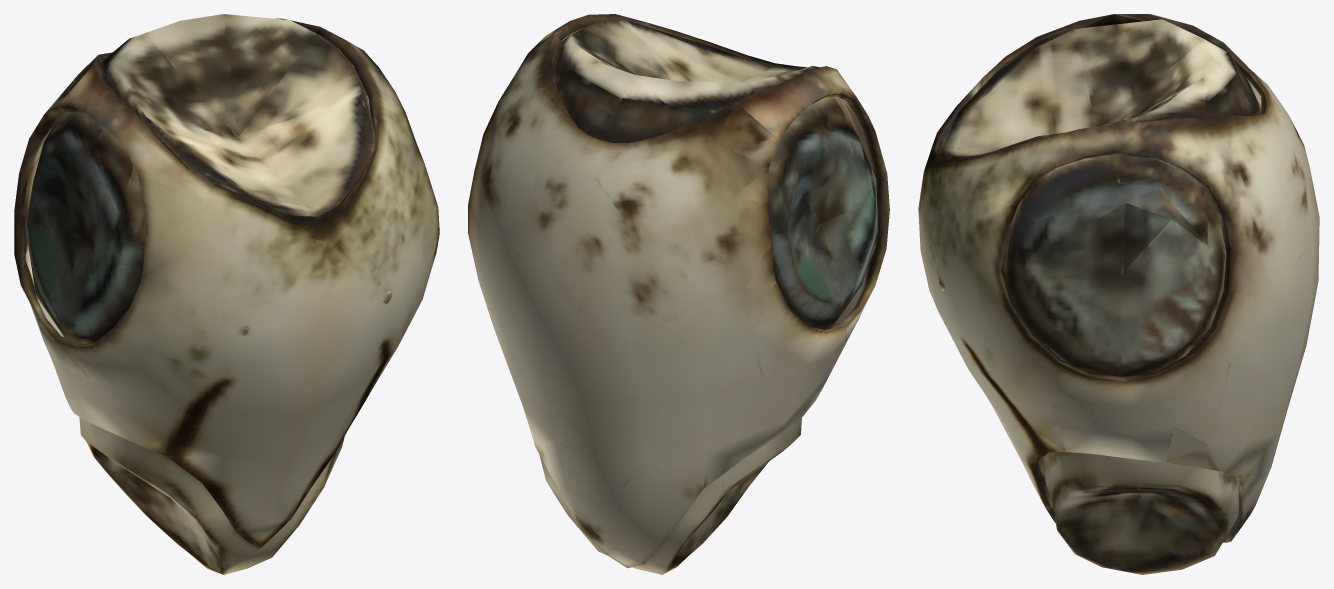
File: body-scout.glb
The picture shows the model from 3 angles, left to right: view 1: azimuth 30°, elevation 25°; view 2: azimuth 150°, elevation 25°; view 3: azimuth 270°, elevation 25°; orthographic projection.
Parts seen in each view (by area): view 1: body-scout; view 2: body-scout; view 3: body-scout.
Boxes of the visible parts, left/top/right/bottom form: body-scout: left=14, top=14, right=439, bottom=574; body-scout: left=468, top=14, right=889, bottom=574; body-scout: left=918, top=14, right=1319, bottom=574.
Size of the model in its own units: 0.6855 by 1 by 0.7109.
Materials: 1 (1 with a texture image).
